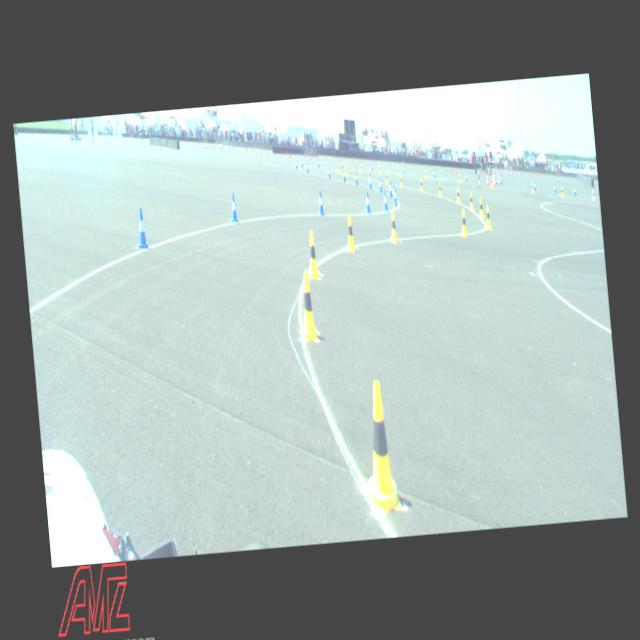blue_cone: (135, 206, 149, 248), (229, 193, 238, 222), (317, 190, 324, 215), (364, 190, 370, 213), (382, 190, 388, 210), (392, 187, 398, 206), (391, 183, 395, 200), (388, 180, 392, 197), (367, 175, 372, 188), (353, 172, 358, 185), (326, 165, 331, 178), (378, 176, 382, 192), (342, 169, 346, 182), (432, 168, 436, 178), (532, 180, 536, 190), (572, 186, 576, 196), (305, 162, 308, 174), (316, 158, 320, 167), (494, 176, 498, 185), (295, 160, 298, 170), (464, 172, 467, 182), (553, 184, 556, 192), (300, 158, 302, 167), (402, 165, 404, 173)
large_orange_cone: (492, 172, 496, 188), (497, 172, 500, 185), (486, 171, 488, 186)
yellow_cone: (356, 380, 402, 512), (296, 270, 318, 342), (304, 230, 320, 280), (344, 214, 356, 252), (388, 210, 398, 242), (459, 208, 467, 236), (484, 204, 492, 230), (478, 197, 484, 218), (468, 192, 474, 210), (455, 187, 460, 203), (437, 182, 442, 196), (398, 174, 402, 187), (419, 178, 423, 190), (384, 172, 388, 184), (344, 163, 348, 174), (358, 162, 362, 172), (560, 186, 564, 196), (530, 183, 534, 192), (489, 176, 492, 187), (336, 162, 339, 172), (424, 169, 427, 178), (396, 166, 399, 174), (378, 164, 380, 174), (458, 173, 460, 183), (592, 189, 594, 199)
